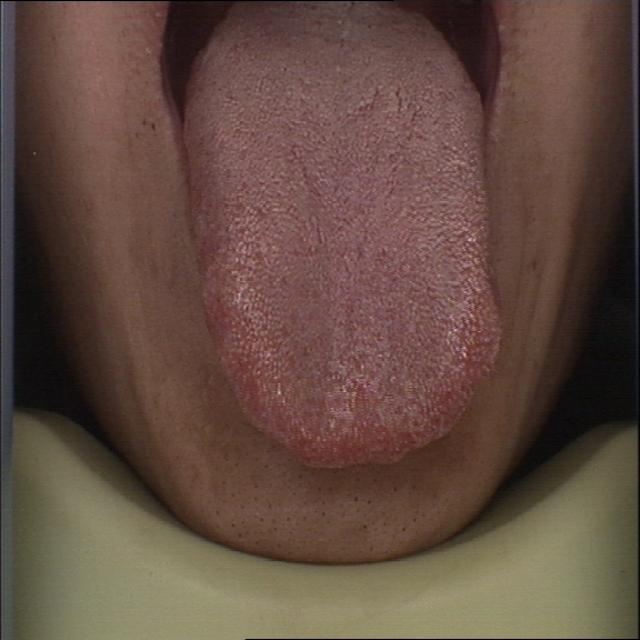tongue: (190, 0, 513, 477)
